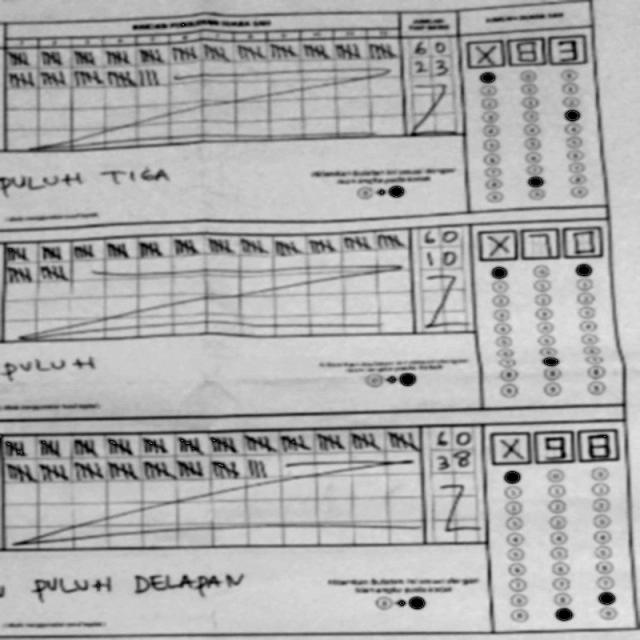Suara: (487, 426, 622, 466), (474, 223, 604, 262), (462, 33, 590, 71)
